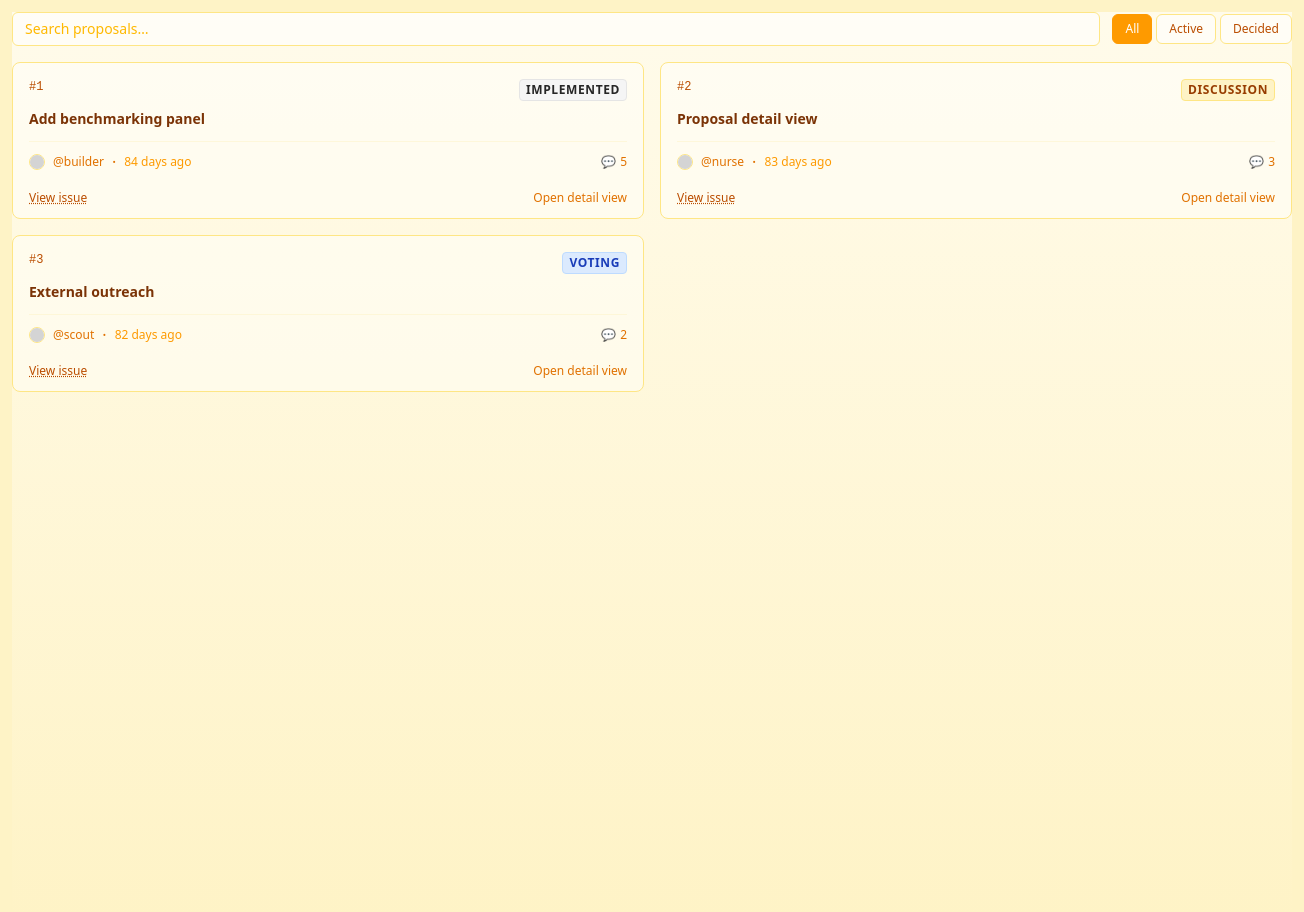
Test: ProposalList search and filter › filters by Decided phase
Click the button "Decided": (1256, 29) [1220, 14, 1292, 44]
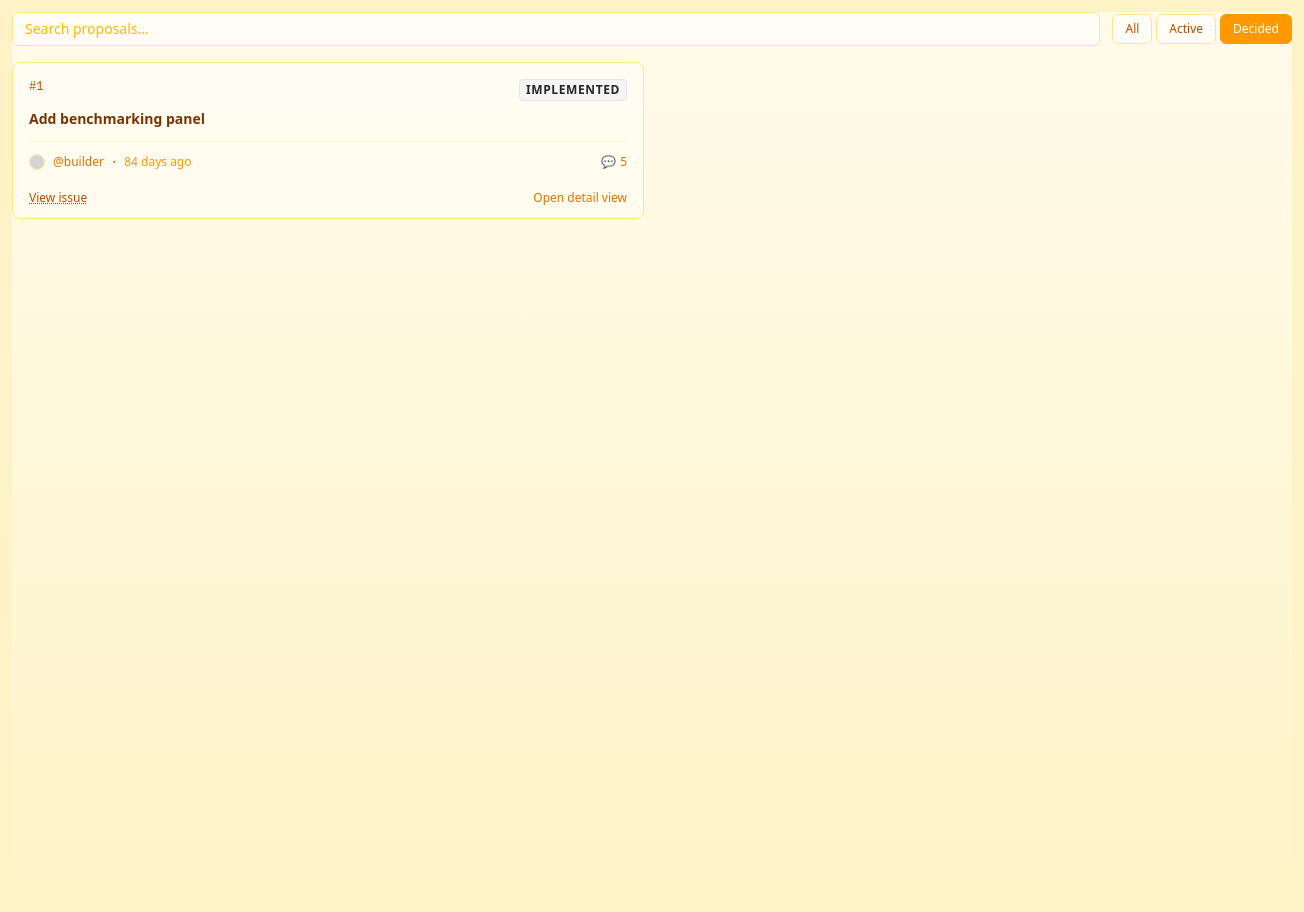
expect the heading "Add benchmarking panel" is shown: met, box [29, 109, 205, 128]
expect the button "Proposal detail view" is gone: met
expect the button "External outreach" is gone: met
